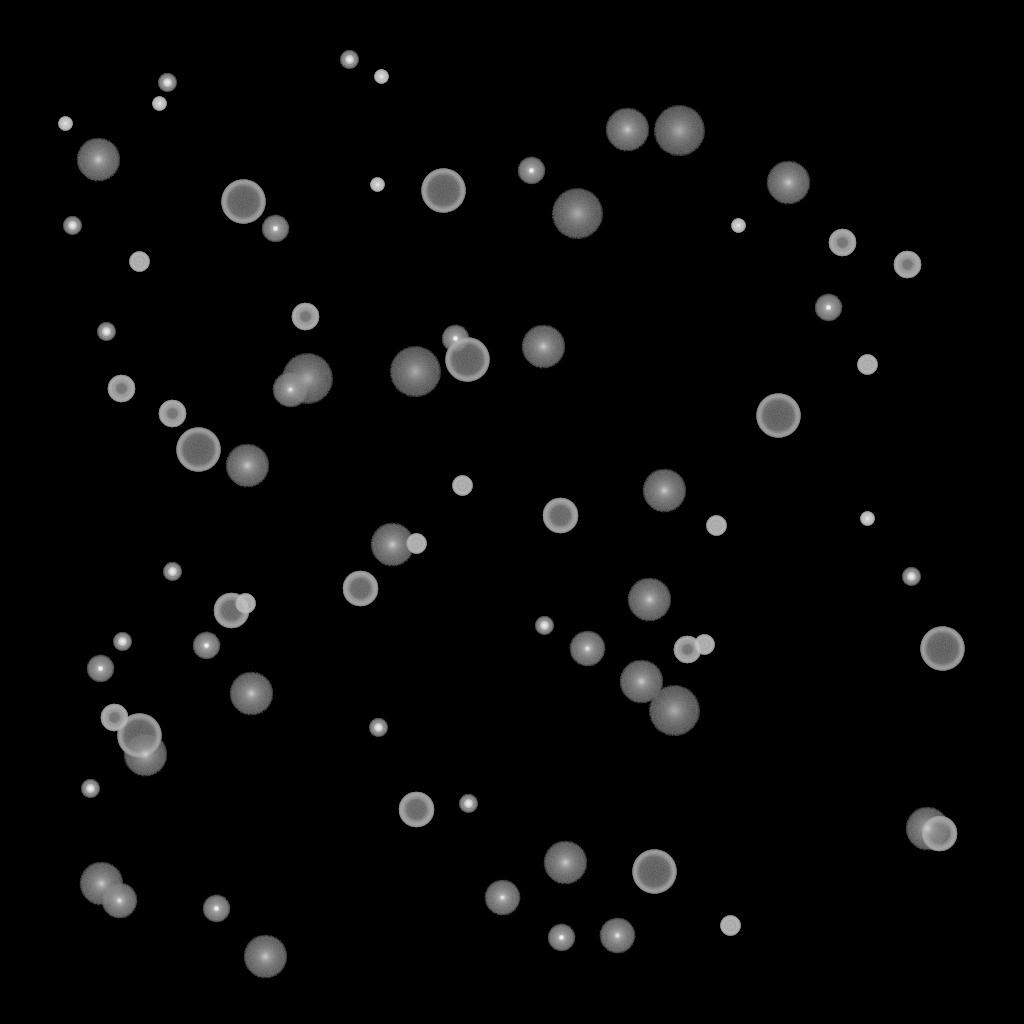depth:-10: (192, 632, 220, 660), (261, 215, 289, 243), (441, 325, 469, 353), (814, 294, 842, 322), (547, 924, 575, 952), (517, 157, 545, 185), (86, 655, 114, 683), (202, 895, 230, 923)
depth:-20: (902, 568, 920, 586), (459, 795, 477, 813), (97, 323, 115, 341), (369, 719, 387, 737), (81, 780, 99, 798), (163, 563, 181, 581), (158, 74, 176, 92), (113, 633, 131, 651), (340, 51, 358, 69), (535, 617, 553, 635), (63, 217, 81, 235)
depth:-30: (370, 178, 384, 192), (152, 97, 166, 111), (58, 117, 72, 131), (374, 70, 388, 84), (860, 512, 874, 526), (731, 219, 745, 233)
depth:-40: (235, 594, 255, 614), (857, 355, 877, 375), (129, 252, 149, 272), (452, 476, 472, 496), (720, 916, 740, 936), (694, 635, 714, 655), (706, 516, 726, 536), (406, 534, 426, 554)
depth:-50: (100, 704, 128, 732), (291, 303, 319, 331), (893, 251, 921, 279), (673, 636, 701, 664), (828, 229, 856, 257), (158, 400, 186, 428), (107, 375, 135, 403)
depth:-60: (213, 593, 249, 629), (921, 816, 957, 852), (398, 792, 434, 828), (542, 498, 578, 534), (342, 571, 378, 607)
depth:-70: (176, 428, 220, 472), (117, 714, 161, 758), (421, 169, 465, 213), (445, 338, 489, 382), (920, 627, 964, 671), (632, 850, 676, 894), (756, 394, 800, 438), (221, 180, 265, 224)
depth:0: (599, 918, 635, 954), (569, 631, 605, 667), (484, 880, 520, 916), (101, 883, 137, 919), (272, 372, 308, 408)
depth:10: (619, 660, 663, 704), (905, 807, 949, 851), (229, 672, 273, 716), (79, 862, 123, 906), (627, 578, 671, 622), (225, 444, 269, 488), (243, 935, 287, 979), (76, 138, 120, 182), (766, 161, 810, 205), (642, 469, 686, 513), (521, 325, 565, 369), (605, 108, 649, 152), (543, 841, 587, 885), (123, 733, 167, 777), (370, 523, 414, 567)
depth:20: (653, 106, 705, 156), (389, 347, 441, 397), (551, 189, 603, 239), (648, 686, 700, 736), (281, 354, 333, 404)
